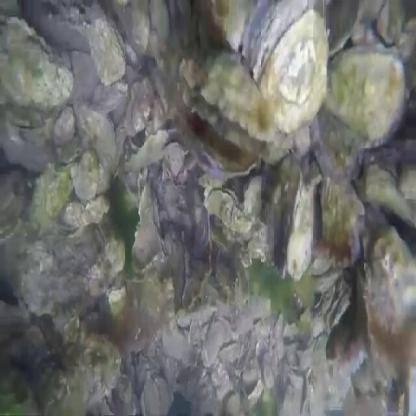3: (244, 0, 328, 132), (177, 52, 275, 159), (170, 93, 256, 180), (0, 15, 72, 108), (205, 187, 252, 233)
Oyster-Closed: (0, 307, 122, 416), (363, 226, 416, 384), (287, 184, 317, 280), (86, 15, 125, 86), (30, 166, 69, 227)
Oyster-Open: (326, 42, 406, 145), (320, 178, 357, 270), (0, 164, 30, 246), (133, 187, 163, 267), (201, 0, 248, 47), (326, 0, 358, 50)
